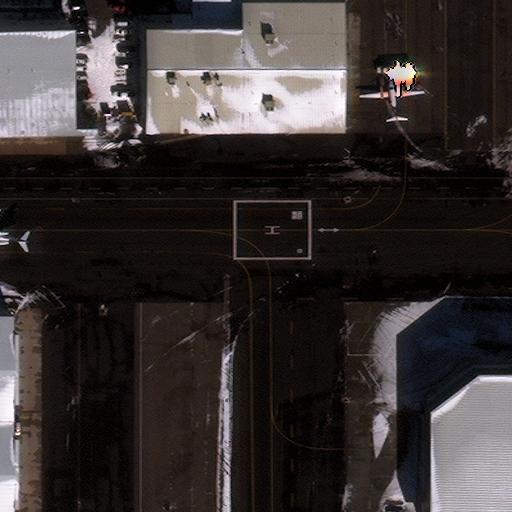Medium Civil Transport: (360, 78, 424, 121), (0, 212, 28, 259)
